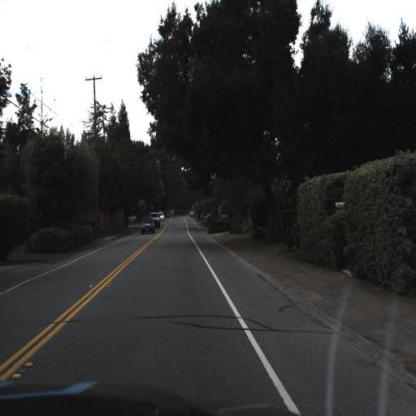car: (142, 217, 158, 235), (151, 211, 163, 231)
